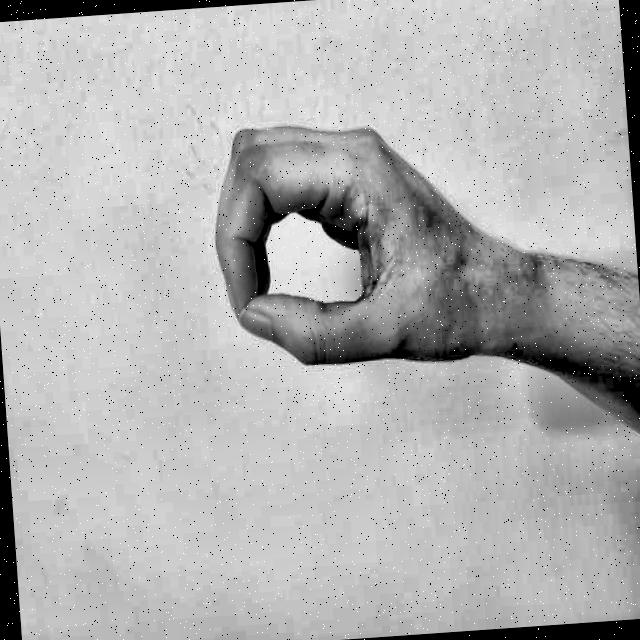O: (183, 90, 492, 413)
